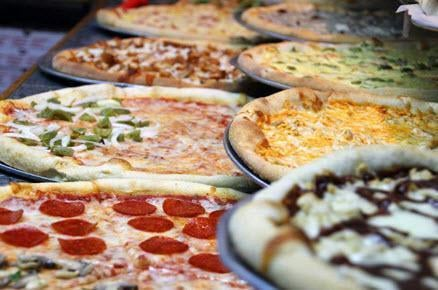curry: (1, 4, 399, 286)
sandwich: (222, 146, 438, 287), (0, 179, 253, 287), (0, 81, 252, 184), (226, 87, 438, 184), (53, 36, 269, 91), (98, 1, 270, 44)
